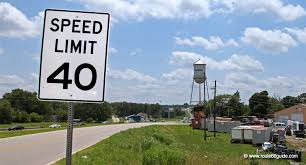sp40: (44, 54, 104, 99)
